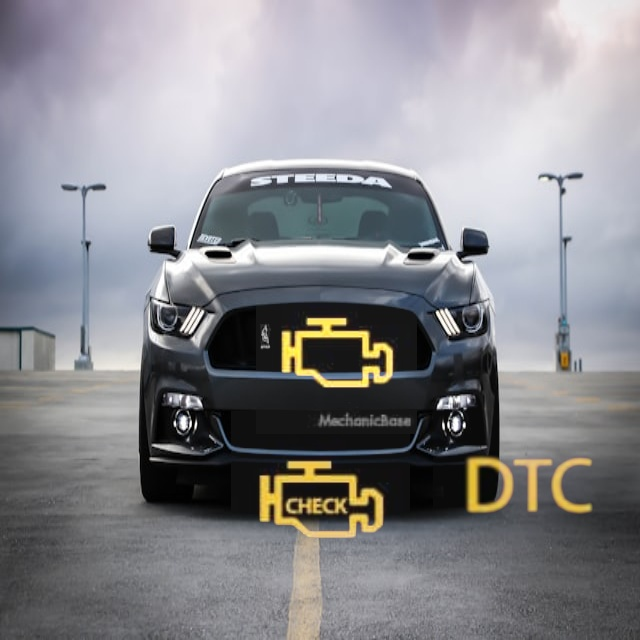symbol: (433, 390, 627, 584), (231, 411, 410, 590), (142, 45, 315, 218), (256, 273, 417, 434)
